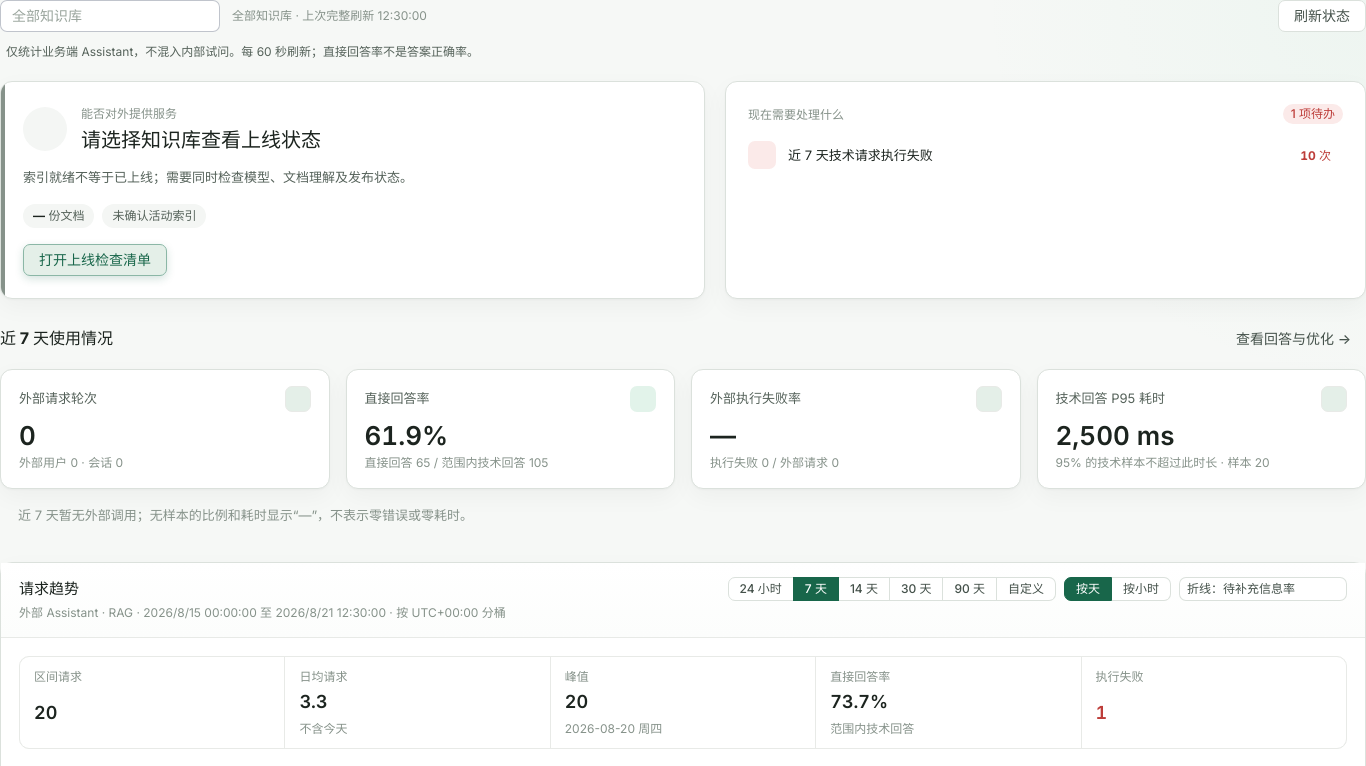
DashboardView metrics › requests 24 whole hourly buckets for the 24-hour range and labels them by hour
Expected: the element with class "trend-summary" shows "不含今天", [299,721,347,736]
Click the radio button labelled "24 小时".
click(761, 589)  # box [728,577,794,601]
(page scrolled)
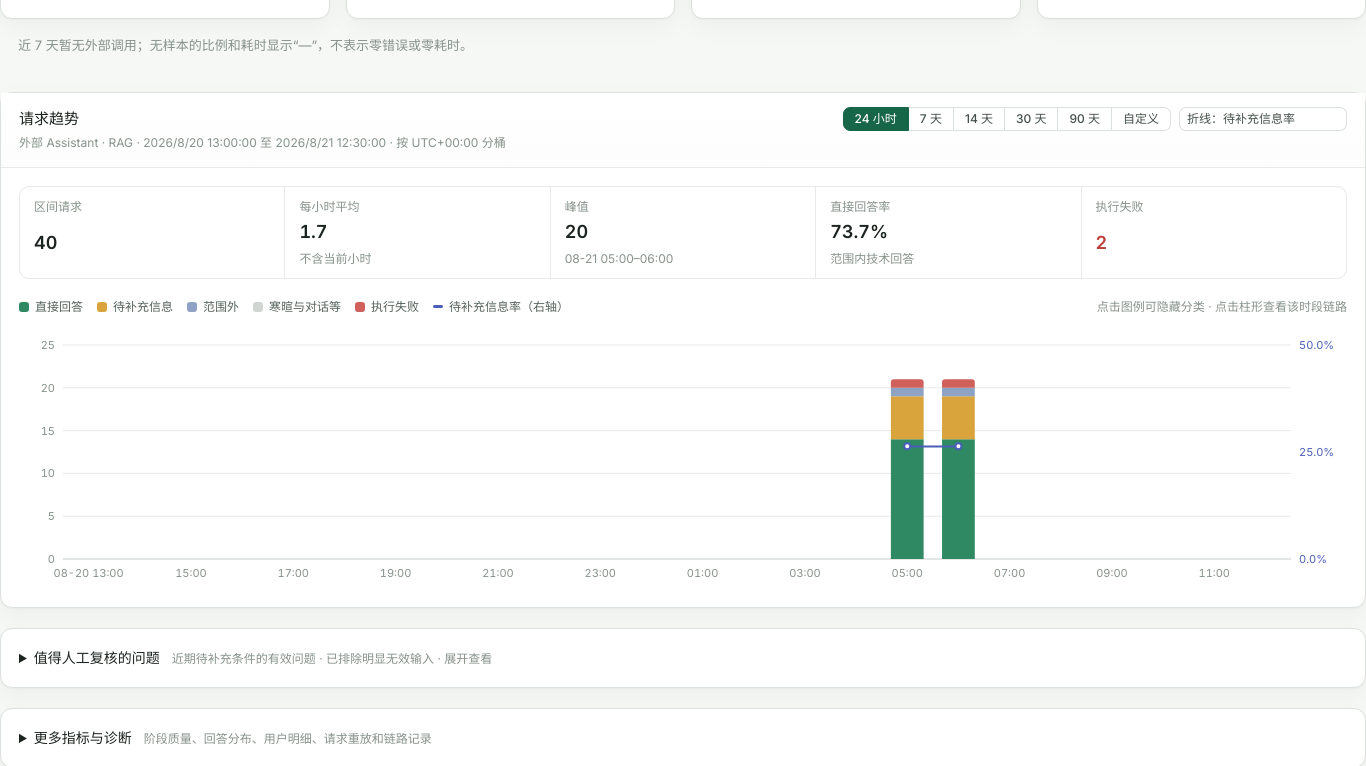
Expected: the element with class "bar-hit" is shown, [882,345,933,559]
Expected: the text "每小时平均" is shown, [299,199,359,214]
